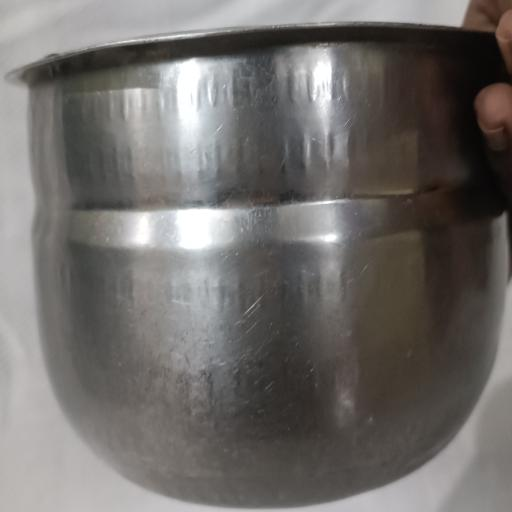vessel: (11, 24, 510, 507)
